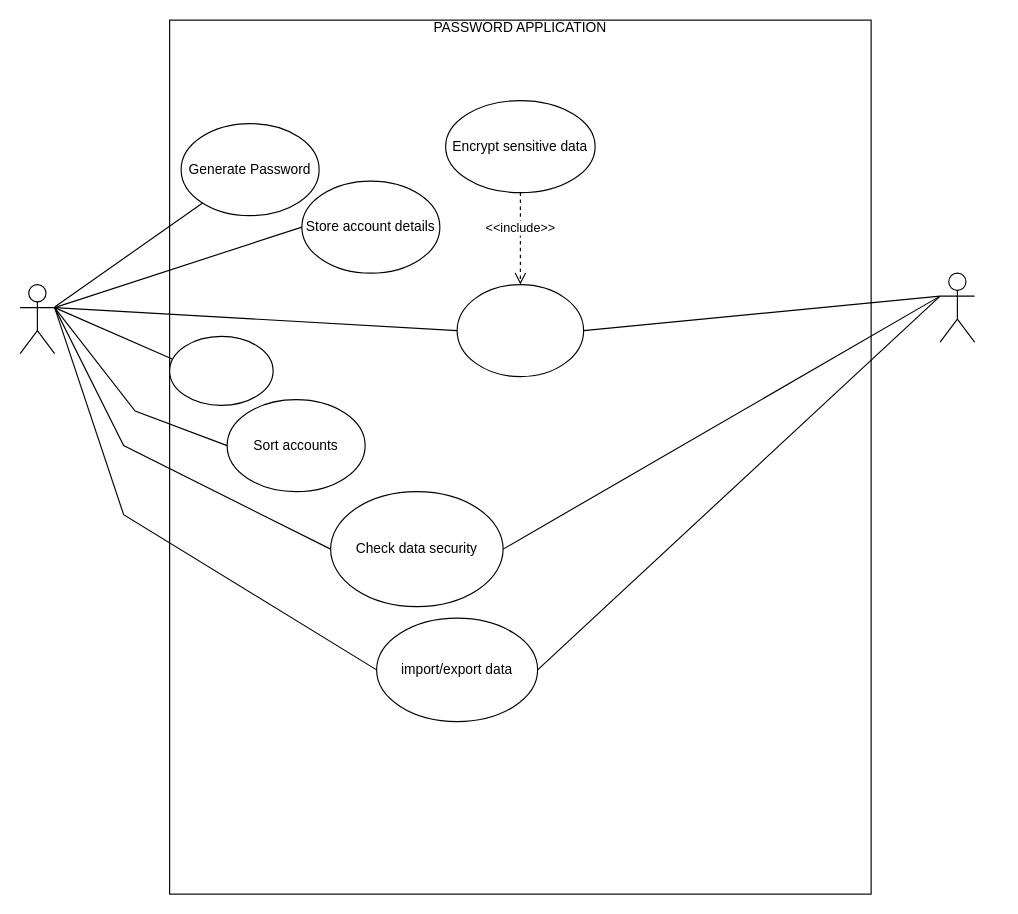
Some shapes in this 1018 by 914 pixel diagram are drawn without their labels. The shapes that lost their labels are listed below. From the top down, each one's centre as x and y in pixels, then its label:
the point at 37,318: User
the point at 957,307: Data Storage
the point at 520,330: Save data to secure file on device
the point at 220,370: Search accounts
